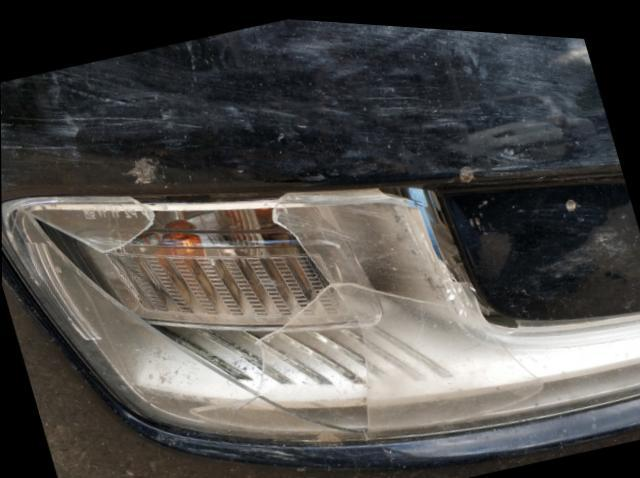lamp broken: (1, 181, 536, 435)
